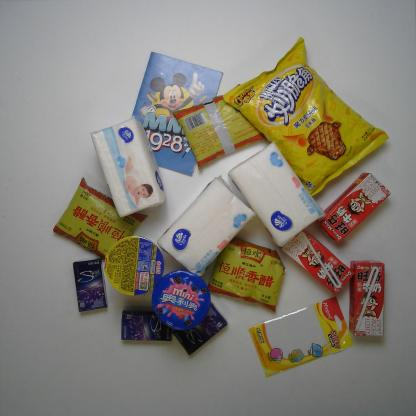Dessert: (153, 269, 211, 331)
Gum: (172, 304, 228, 354), (72, 258, 110, 314), (120, 308, 173, 343)
Instant Noodles: (104, 235, 164, 296)
Milk: (319, 172, 392, 246), (280, 228, 354, 294), (346, 258, 388, 338)
Puffed Food: (223, 36, 391, 202)
Seasoner: (52, 175, 150, 264), (173, 82, 269, 171), (206, 233, 287, 312)
Stationery: (116, 52, 222, 176), (246, 296, 354, 378)
Tissue: (156, 176, 256, 277), (227, 143, 324, 247), (89, 116, 167, 220)
